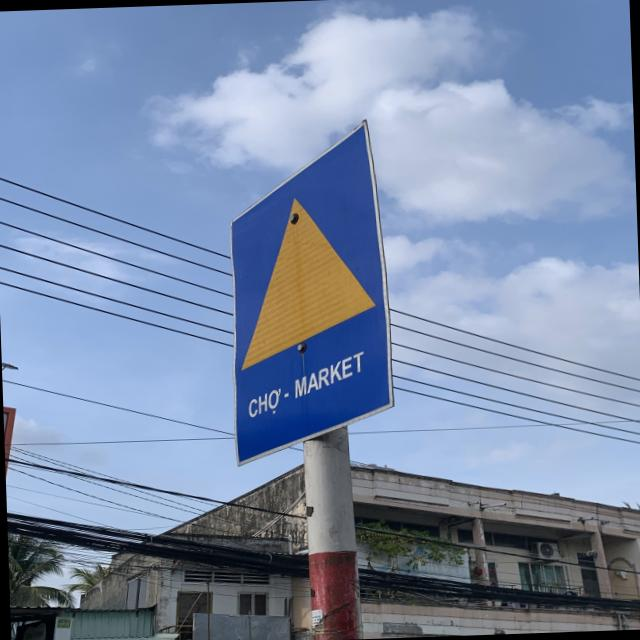Cho_Quay_Xe: (226, 120, 396, 468)
